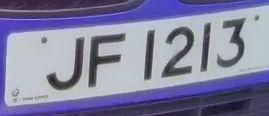1: (135, 21, 164, 91), (195, 17, 215, 79)
2: (161, 19, 200, 84)
3: (212, 14, 252, 72)
F: (85, 27, 128, 95)
J: (44, 30, 86, 96)
